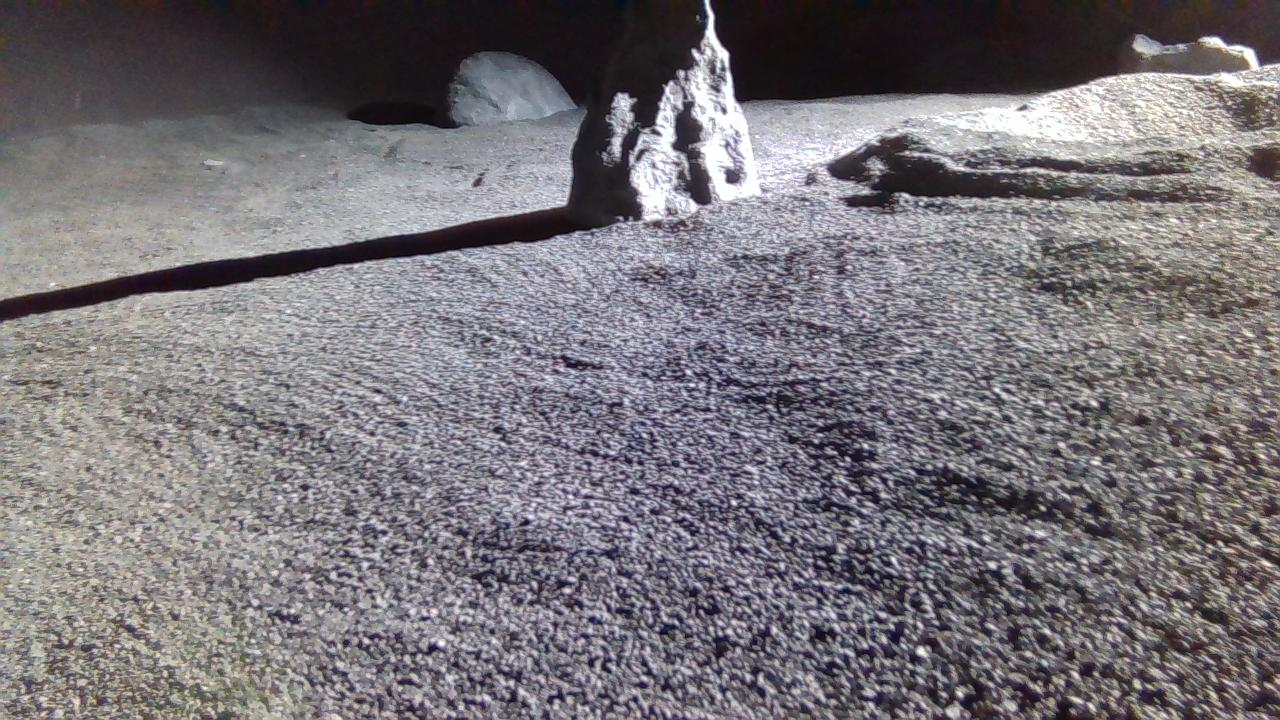rock: (569, 0, 761, 223), (448, 50, 577, 124), (1124, 32, 1262, 73)
